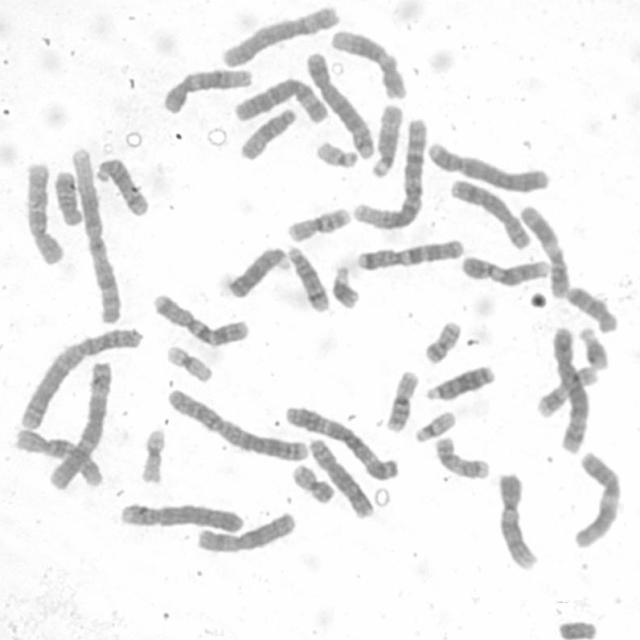A1: (67, 144, 124, 325), (350, 114, 428, 231)
A2: (17, 322, 145, 432), (163, 384, 311, 463)
A3: (45, 356, 114, 493), (282, 402, 399, 482)
B4: (424, 139, 550, 194), (117, 499, 246, 535)
B5: (303, 48, 376, 160), (547, 324, 591, 457)
C10: (10, 426, 104, 489), (22, 159, 66, 266)
C11: (569, 448, 624, 550), (518, 203, 570, 301)
C12: (328, 25, 409, 100), (159, 65, 254, 114)
C6: (219, 2, 340, 68), (232, 75, 330, 127)
C7: (150, 290, 252, 348), (354, 235, 466, 273)
C8: (446, 175, 533, 250), (306, 434, 376, 519)
C9: (493, 467, 539, 574), (459, 251, 552, 289)
D13: (224, 243, 291, 301), (422, 360, 498, 402)
D14: (92, 154, 150, 218), (283, 243, 331, 313)
D15: (236, 104, 299, 163), (369, 99, 405, 180)
E16: (284, 203, 353, 244), (382, 366, 422, 434)
E17: (533, 362, 600, 419), (433, 434, 493, 481)
E18: (562, 282, 620, 334), (50, 168, 84, 228)
F19: (163, 343, 215, 384), (138, 425, 167, 485)
F20: (420, 316, 464, 365), (289, 462, 337, 505)
G21: (328, 260, 363, 310), (576, 324, 610, 371)
G22: (411, 407, 457, 444), (313, 137, 360, 170)
X: (193, 508, 297, 554)
Y: (553, 615, 600, 639)
